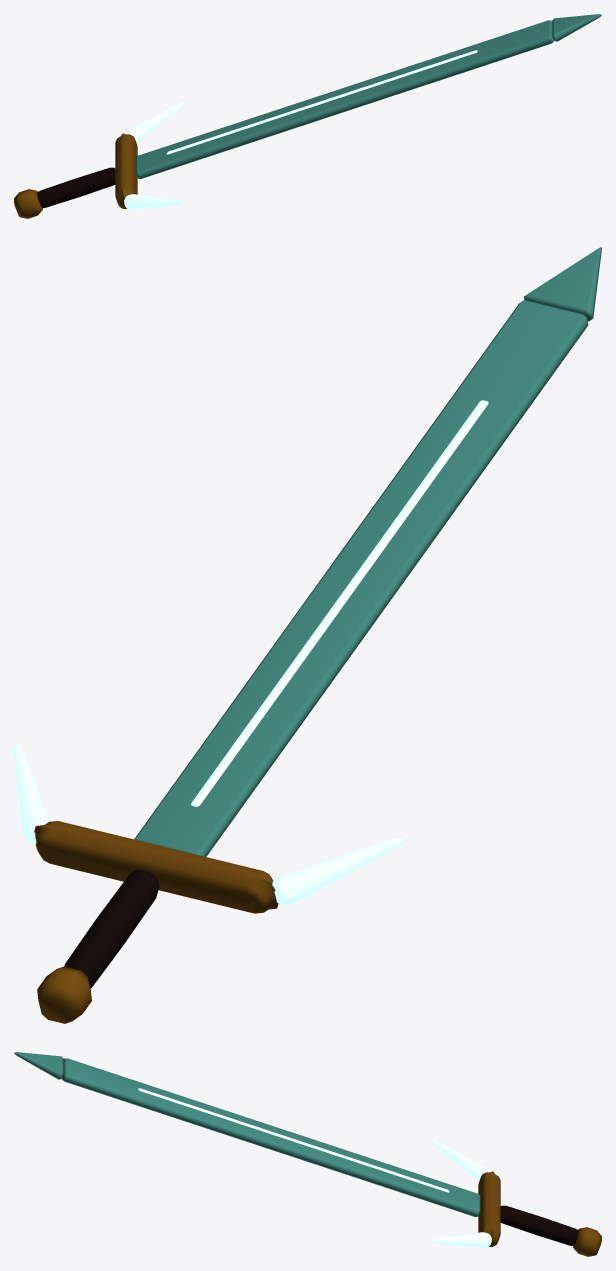
The model's file is Arma_EspadaMarePrismatica.fbx.
The picture shows the model from 3 angles, top to bottom: view 1: azimuth 90°, elevation 25°; view 2: azimuth 150°, elevation 25°; view 3: azimuth 270°, elevation 25°; orthographic projection. The views are drawn at different scales.
Visible parts, largest first — view 1: Piece; view 2: Piece; view 3: Piece.
Part boxes in pixels (x1,y1,x2,y2): Piece: [14, 14, 601, 218]; Piece: [14, 247, 601, 1023]; Piece: [14, 1052, 601, 1256].
Bounding box in the file's own units: 0.4585 × 0.4286 × 1.13.
